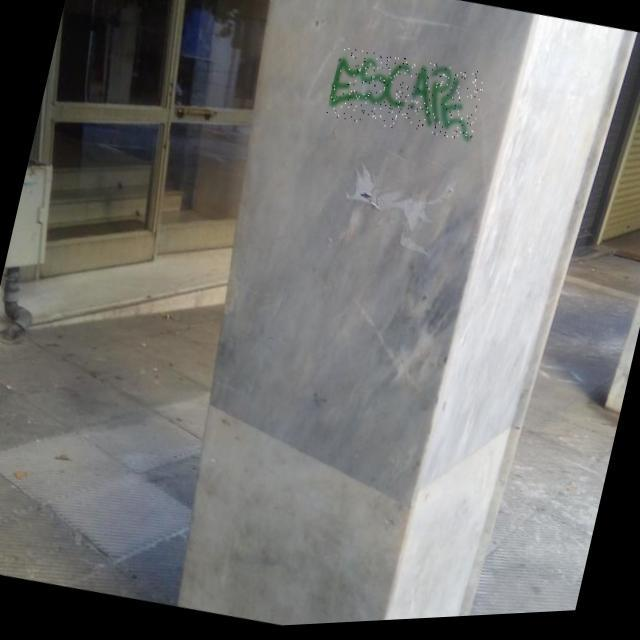-: (326, 44, 487, 153)
